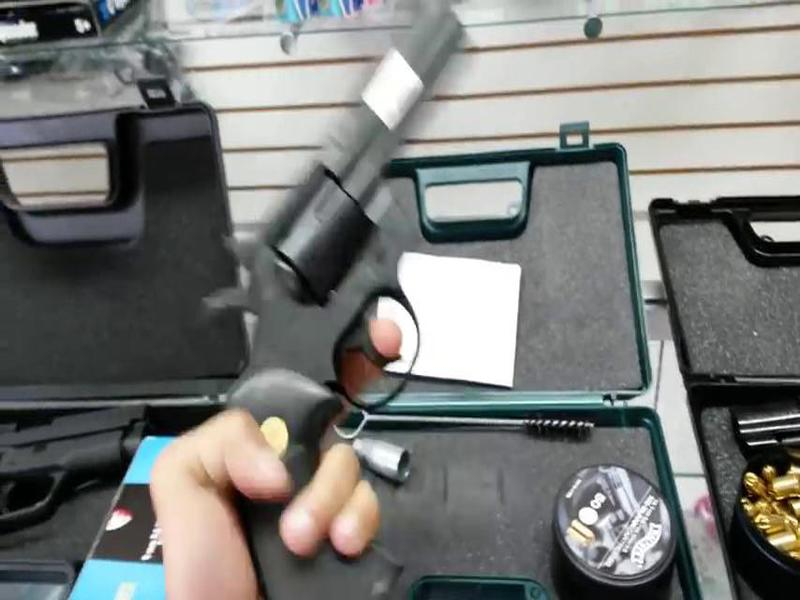Revolver: (231, 1, 490, 584)
